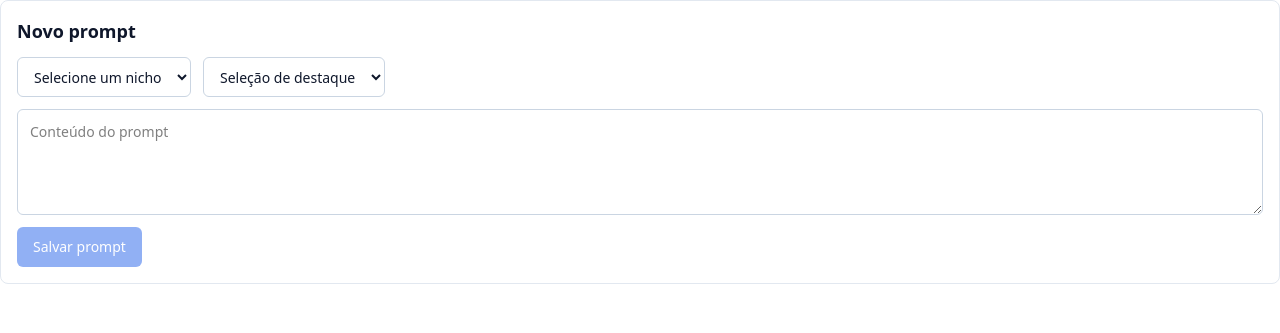
it: PromptTemplateForm › should show an error message when saving fails
Select "Futebol" in the 1st dropdown showing "Selecione um nicho" at (104, 77), box [17,57,191,97]
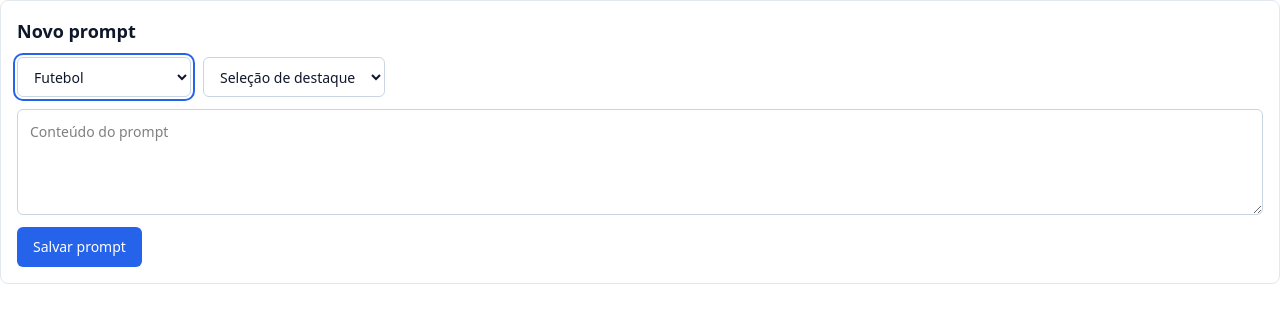
Type "conteudo" into the text box with placeholder "Conteúdo do prompt" at (640, 162), box [17,109,1263,215]
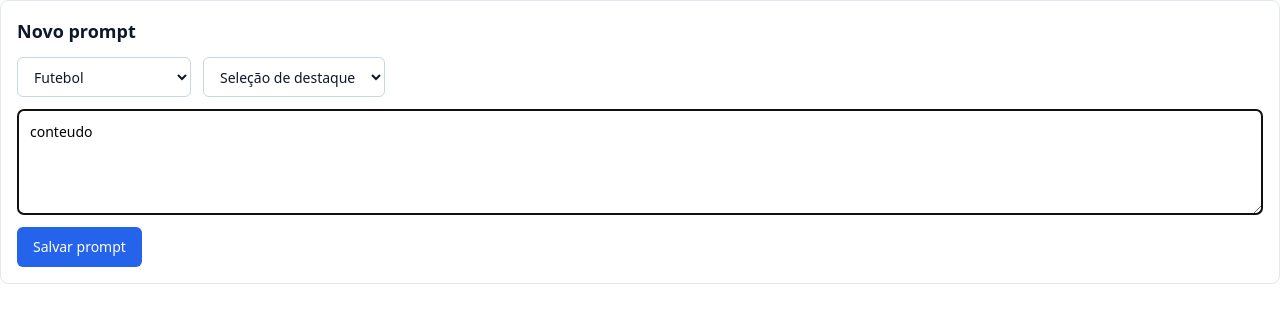
Click the button "Salvar prompt" at (79, 247), box [17,227,142,267]
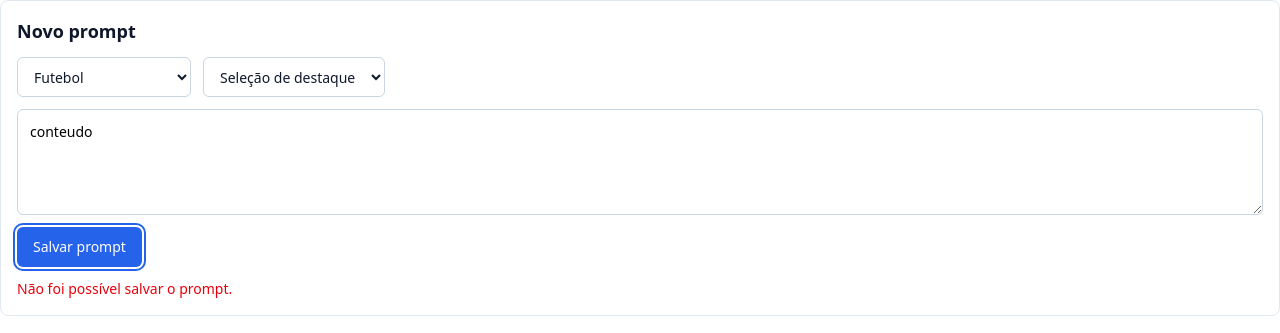
Expected: the text "Não foi possível salvar o prompt." is shown, [17,279,232,298]
